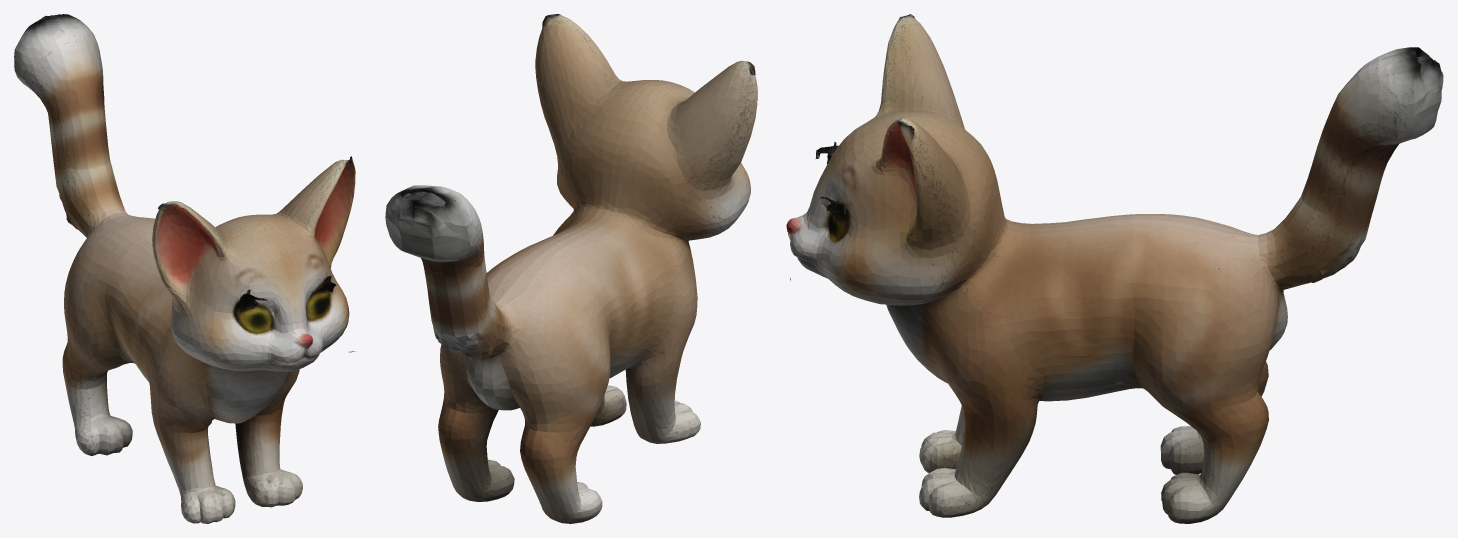
File: cat.glb
3 renders of one model, left to right at view 1: azimuth 30°, elevation 25°; view 2: azimuth 150°, elevation 25°; view 3: azimuth 270°, elevation 25°, orthographic. The views are drawn at different scales.
Parts seen in each view (by area): view 1: world; view 2: world; view 3: world.
Part boxes in pixels (x1,y1,x2,y2): world: (14,14,356,523); world: (385,14,757,523); world: (786,14,1443,523).
Size of the model in its own units: 0.4351 by 0.7406 by 0.9998.
Materials: 1 (1 with a texture image).
